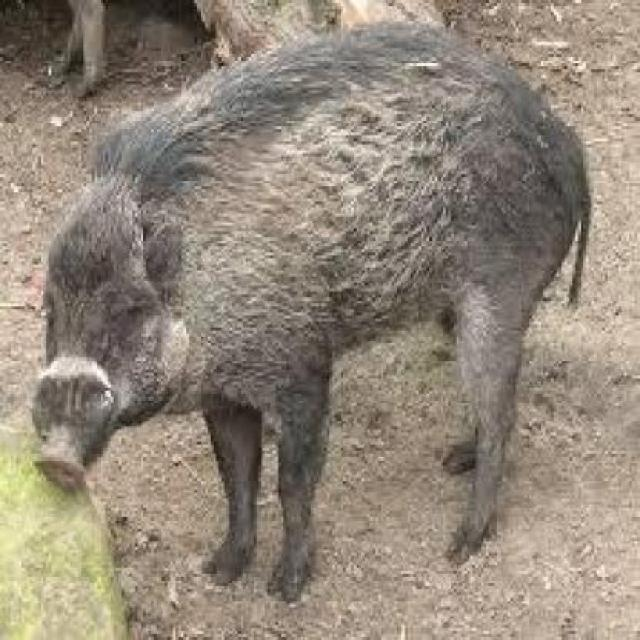wildboar: (24, 9, 598, 603)
